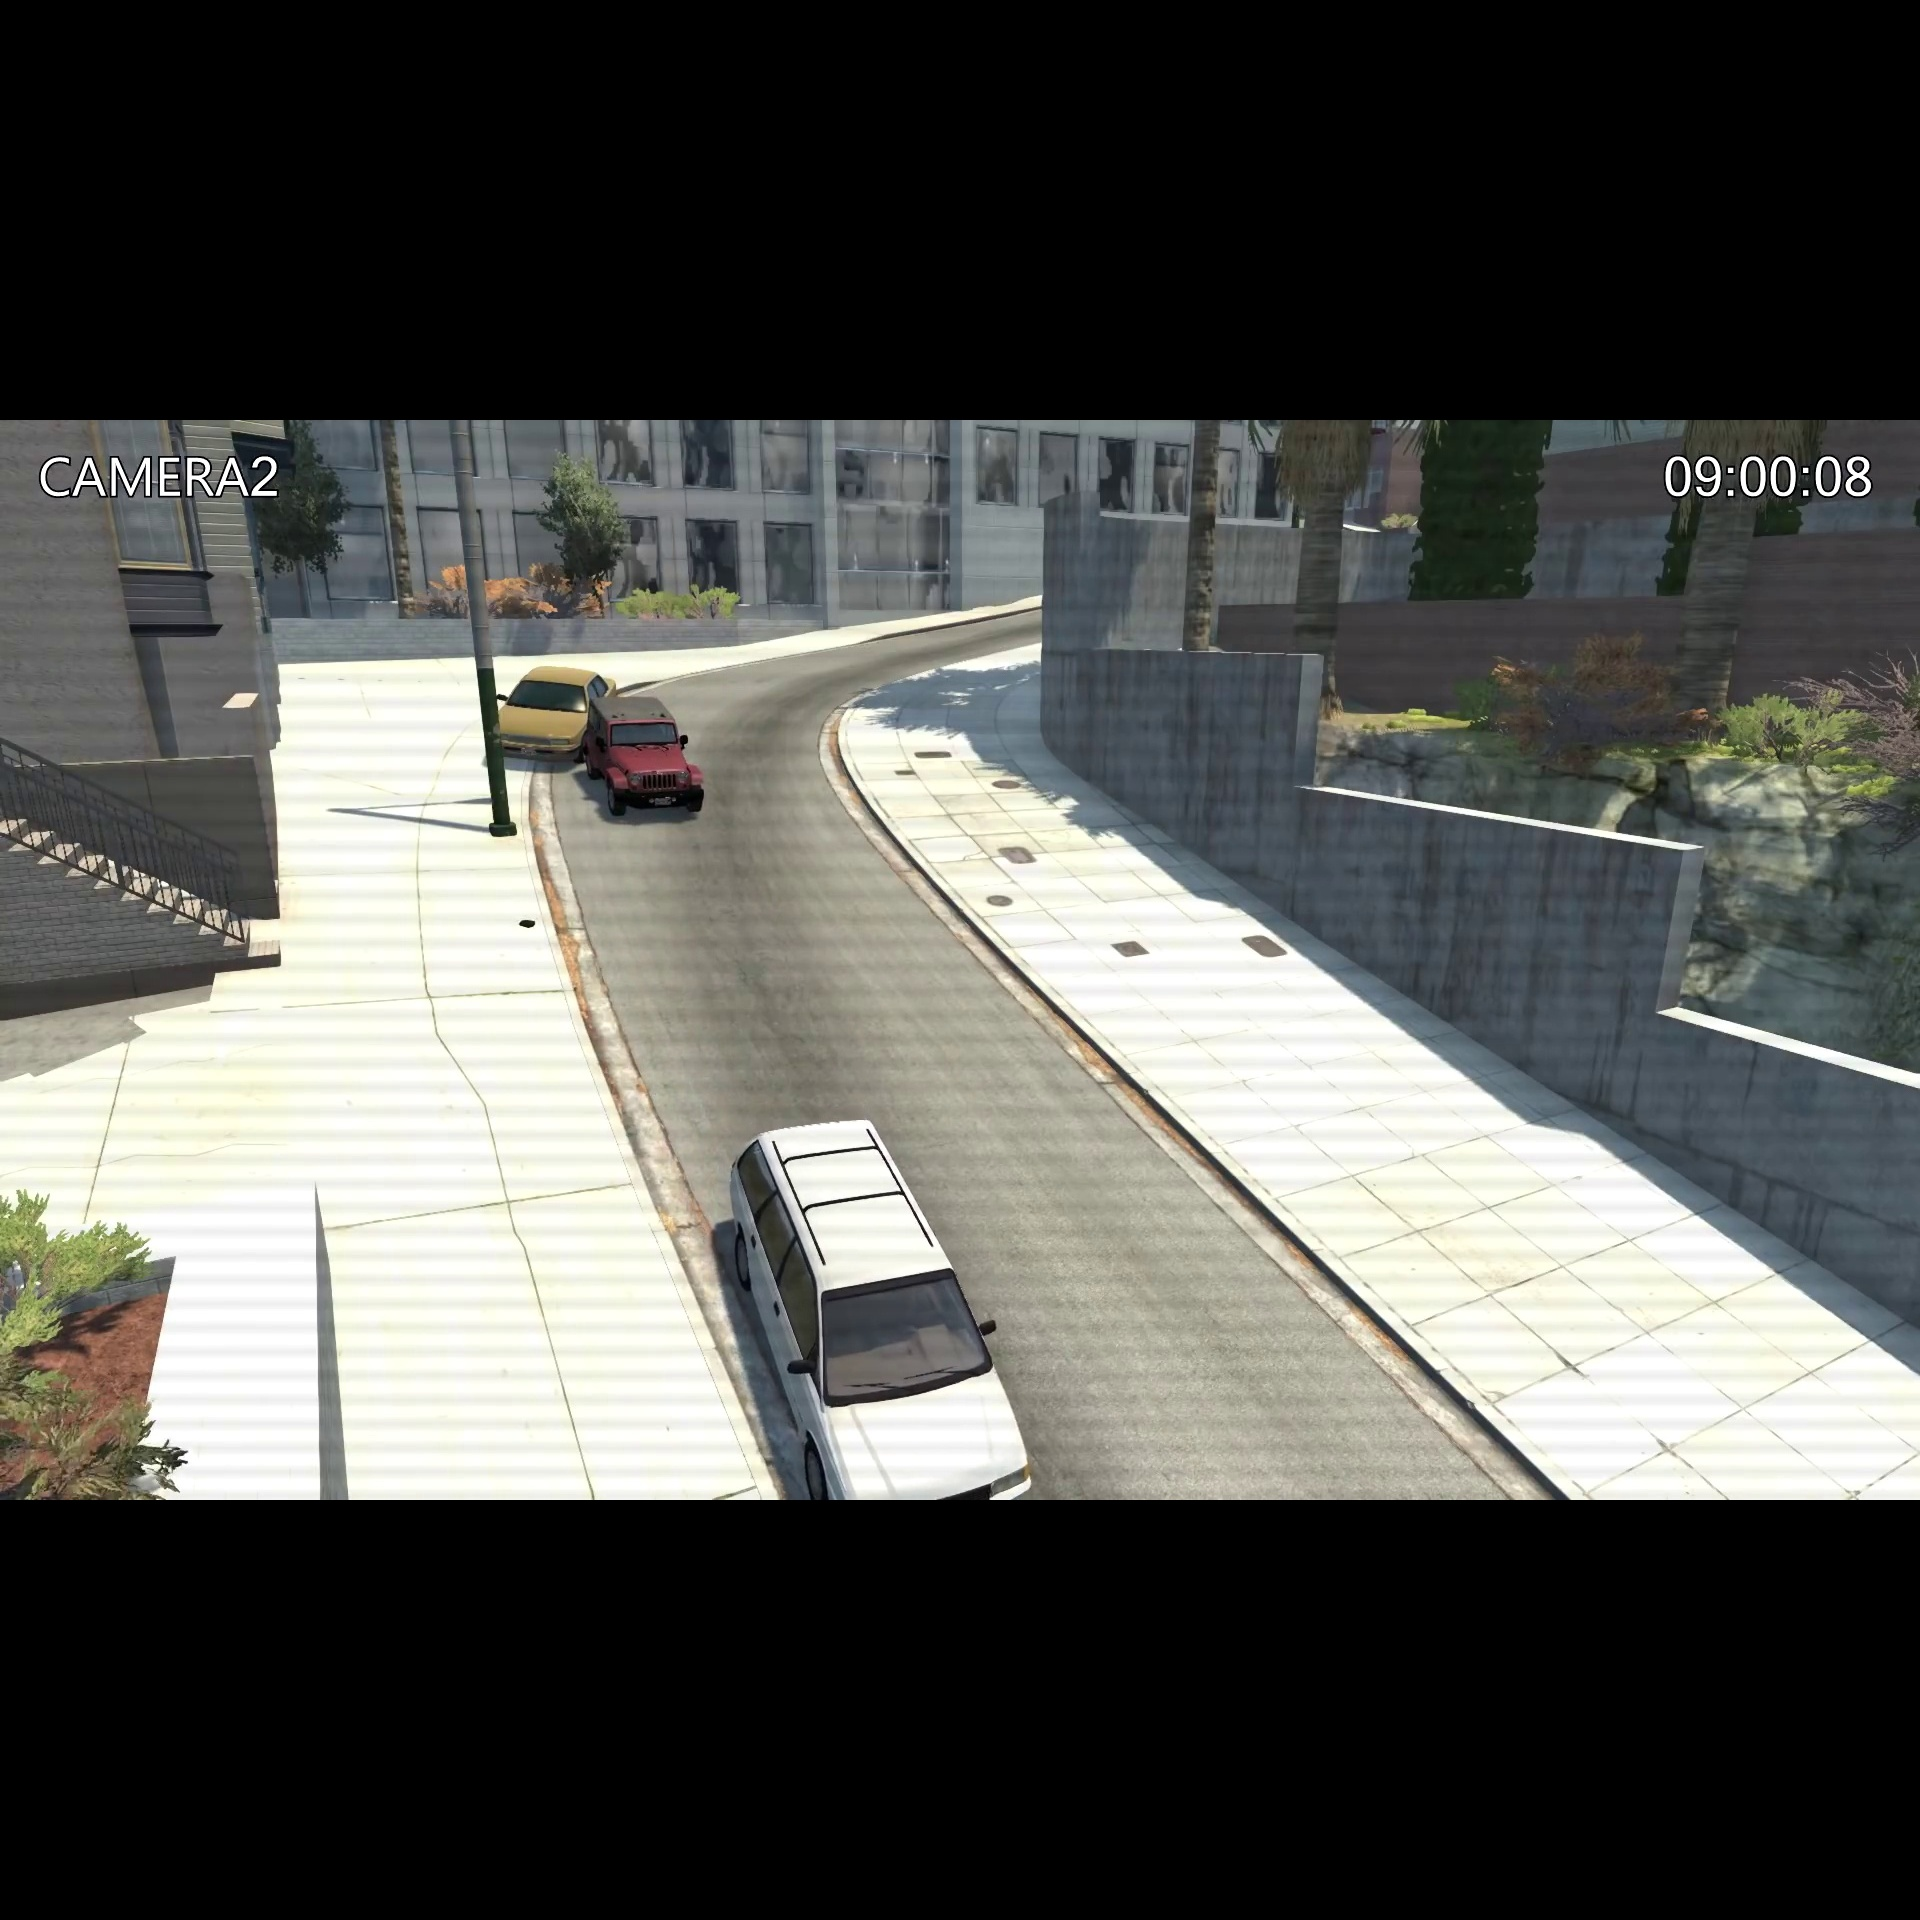vehicle: (721, 1104, 1037, 1500), (585, 689, 714, 823), (484, 665, 622, 768)
